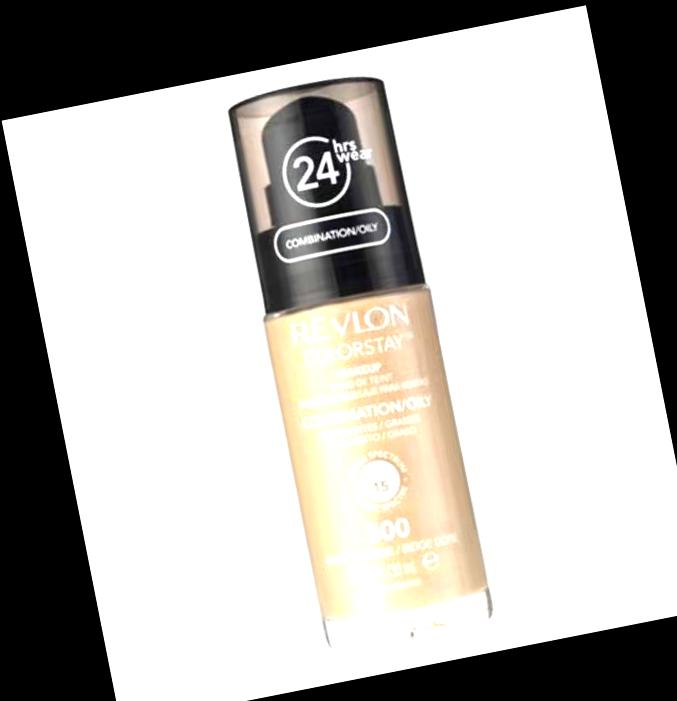cosmetic: (218, 67, 498, 650)
